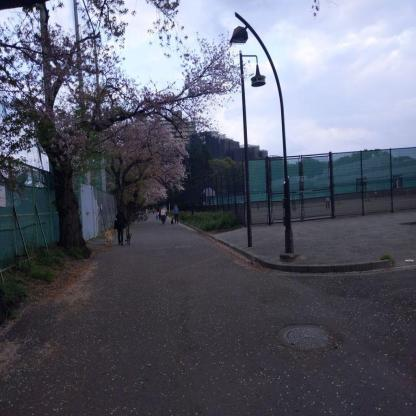Someiyoshino: (0, 0, 272, 204), (97, 102, 193, 218)
